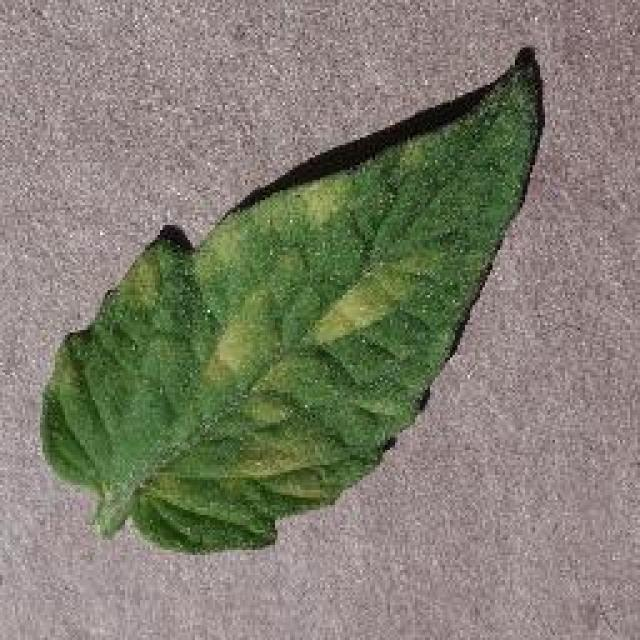Tomato___Leaf_Mold: (42, 65, 538, 548)
